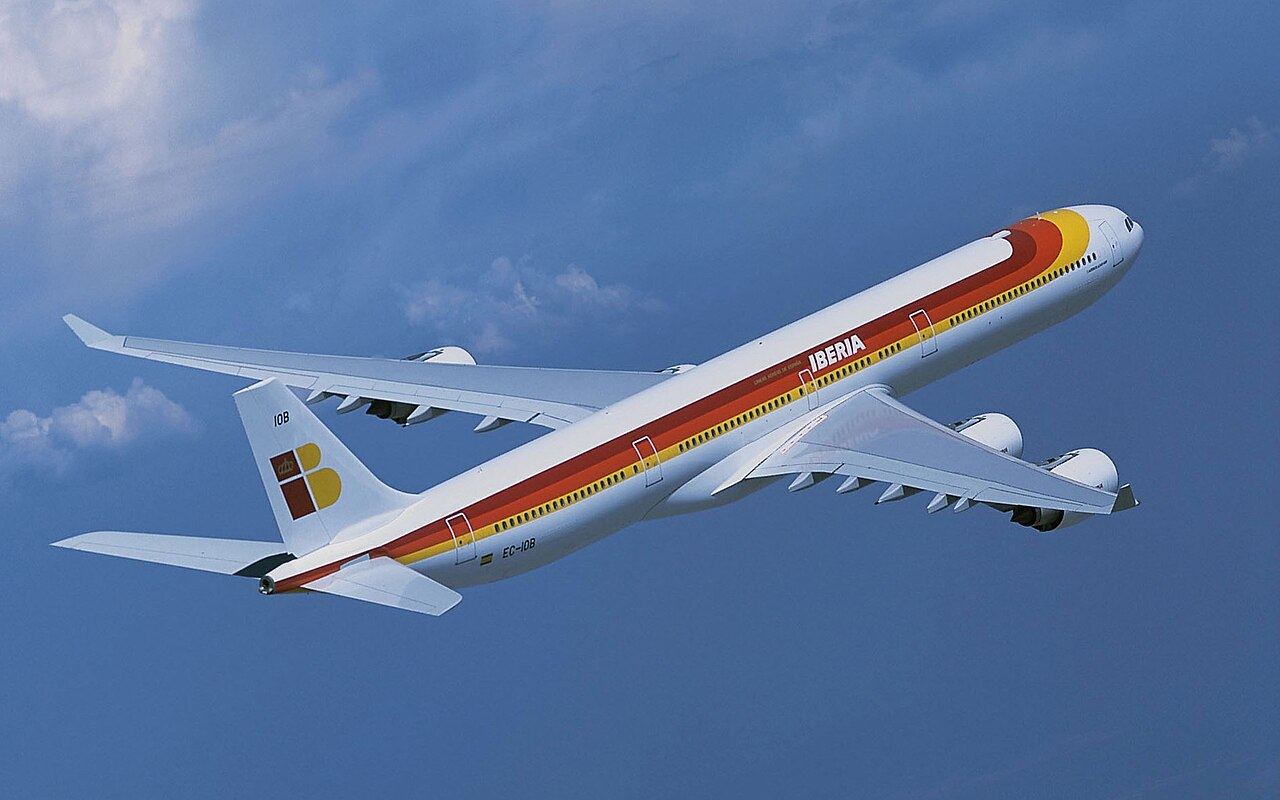aircraft: (49, 203, 1144, 616)
